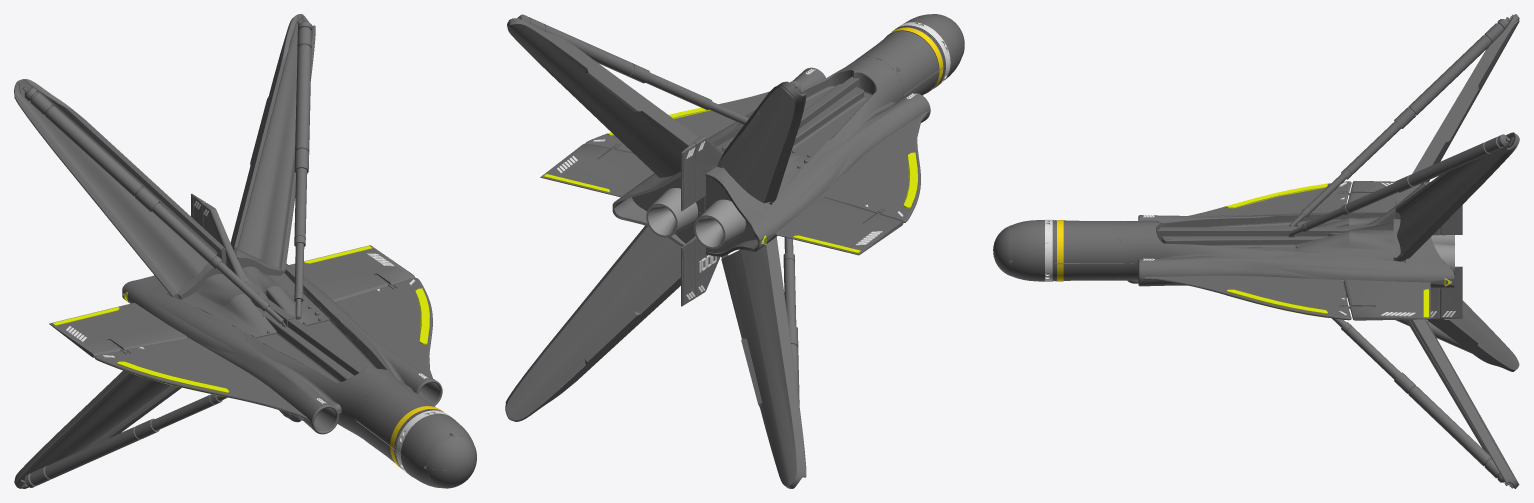
The model's file is roadrunner-v4.glb.
3 renders of one model, left to right at view 1: azimuth 30°, elevation 25°; view 2: azimuth 150°, elevation 25°; view 3: azimuth 270°, elevation 25°, orthographic. The views are drawn at different scales.
Parts seen in each view (by area): view 1: Part 1 (×6), Part 5, Part 7, Part 2, Part 4, Part 13, Part 8, Part 6; view 2: Part 5, Part 1 (×5), Part 1-Mirrored (×2), Part 7, Part 4, Part 8, Part 3, Part 2, Part 6; view 3: Part 7, Part 1 (×5), Part 5, Part 2 (×2), Part 6, Part 1-Mirrored, Part 3, Part 13.
Boxes of the visible parts, <box> form: Part 1 (×6): <box>14,14,447,488</box>; Part 5: <box>49,193,385,423</box>; Part 7: <box>194,195,442,394</box>; Part 2: <box>14,79,224,297</box>; Part 4: <box>356,382,451,467</box>; Part 13: <box>427,435,476,488</box>; Part 8: <box>49,293,384,442</box>; Part 6: <box>386,381,474,444</box>; Part 5: <box>681,57,930,254</box>; Part 1 (×5): <box>507,14,964,488</box>; Part 1-Mirrored (×2): <box>506,86,804,421</box>; Part 7: <box>540,56,873,224</box>; Part 4: <box>875,14,964,94</box>; Part 8: <box>681,96,930,306</box>; Part 3: <box>540,111,701,306</box>; Part 2: <box>505,225,648,420</box>; Part 6: <box>855,14,939,60</box>; Part 7: <box>1124,183,1462,319</box>; Part 1 (×5): <box>1289,19,1519,482</box>; Part 5: <box>1124,181,1454,244</box>; Part 2 (×2): <box>1009,261,1518,488</box>; Part 6: <box>1009,222,1124,263</box>; Part 1-Mirrored: <box>1395,20,1519,205</box>; Part 3: <box>1124,263,1462,320</box>; Part 13: <box>993,226,1008,275</box>.
Size of the model in its own units: 0.13 by 0.1574 by 0.2108.
